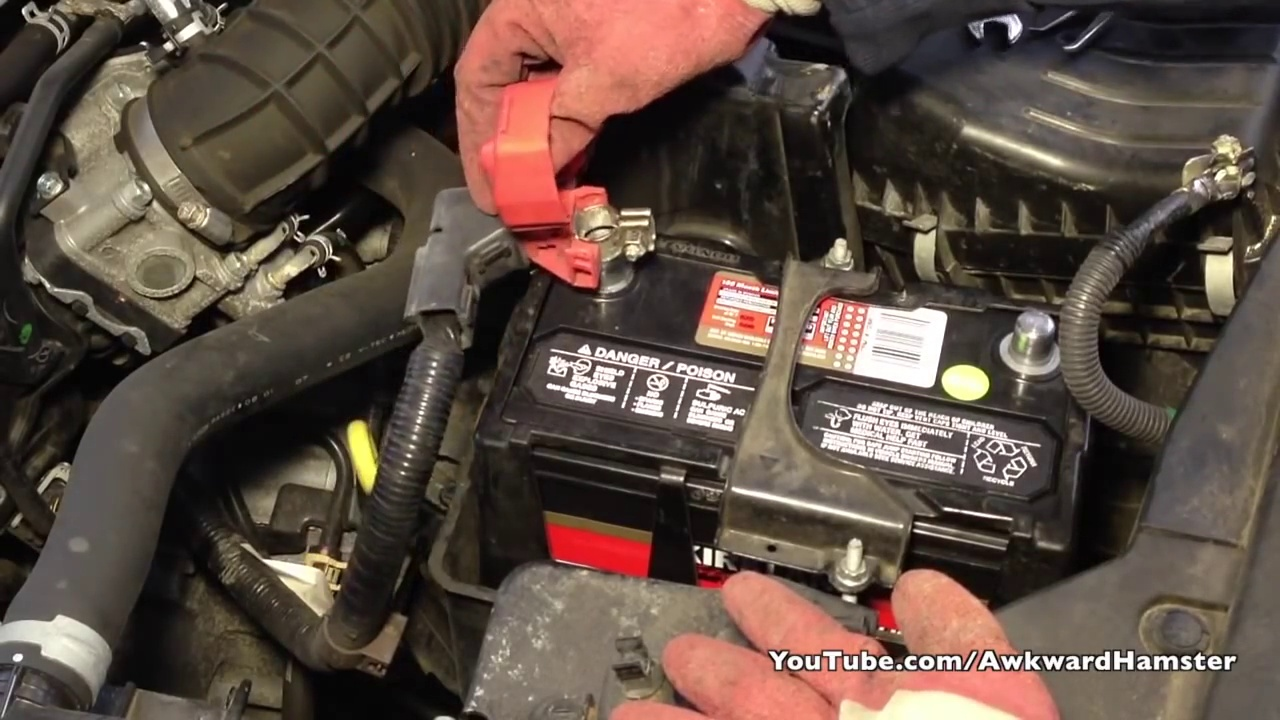battery: (486, 229, 1081, 541)
neg_disconnected: (980, 280, 1084, 387)
pos_connected: (424, 160, 684, 303)
pos_touched: (433, 30, 652, 302)
